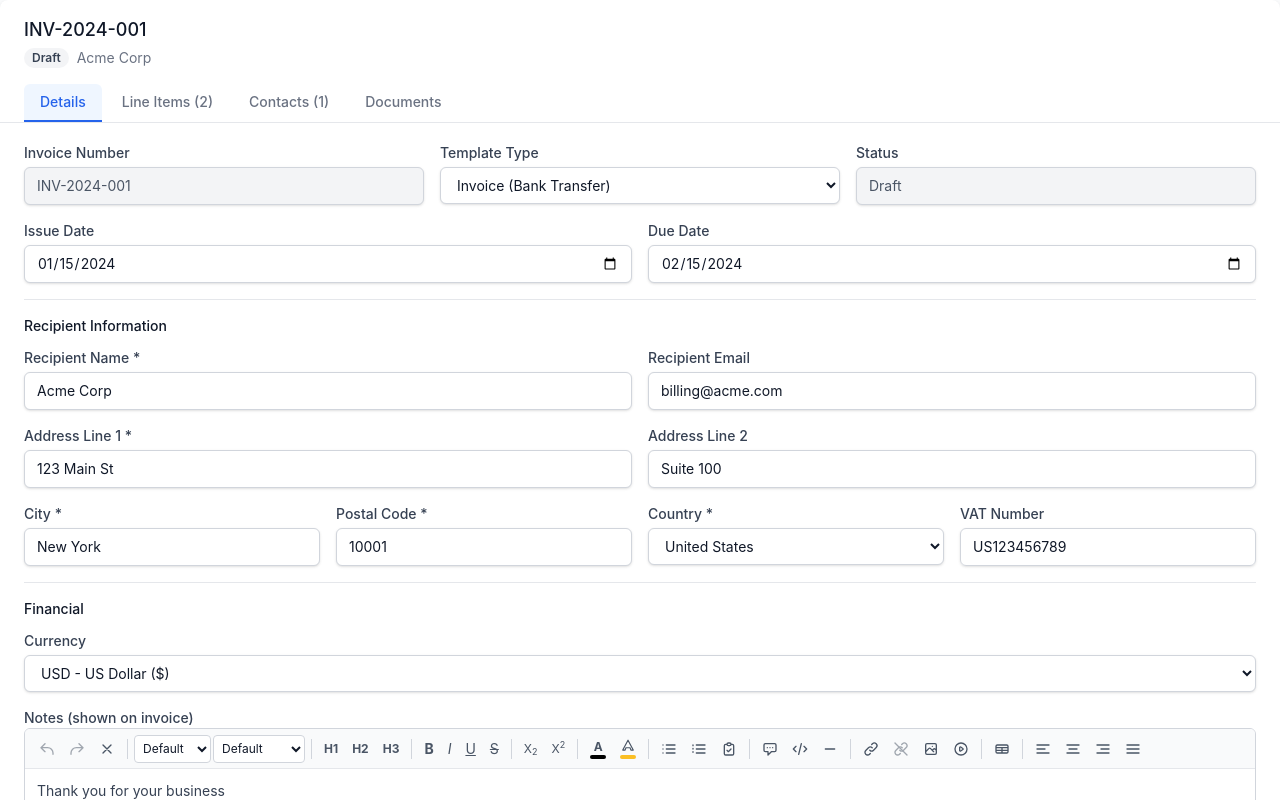
Test: InvoiceDetailPanel › line items functionality › removes line item when remove button is clicked
The width and height of the screenshot is (1280, 800).
Click the button "Line Items (2)".
click(167, 103)  # box [106,84,229,122]
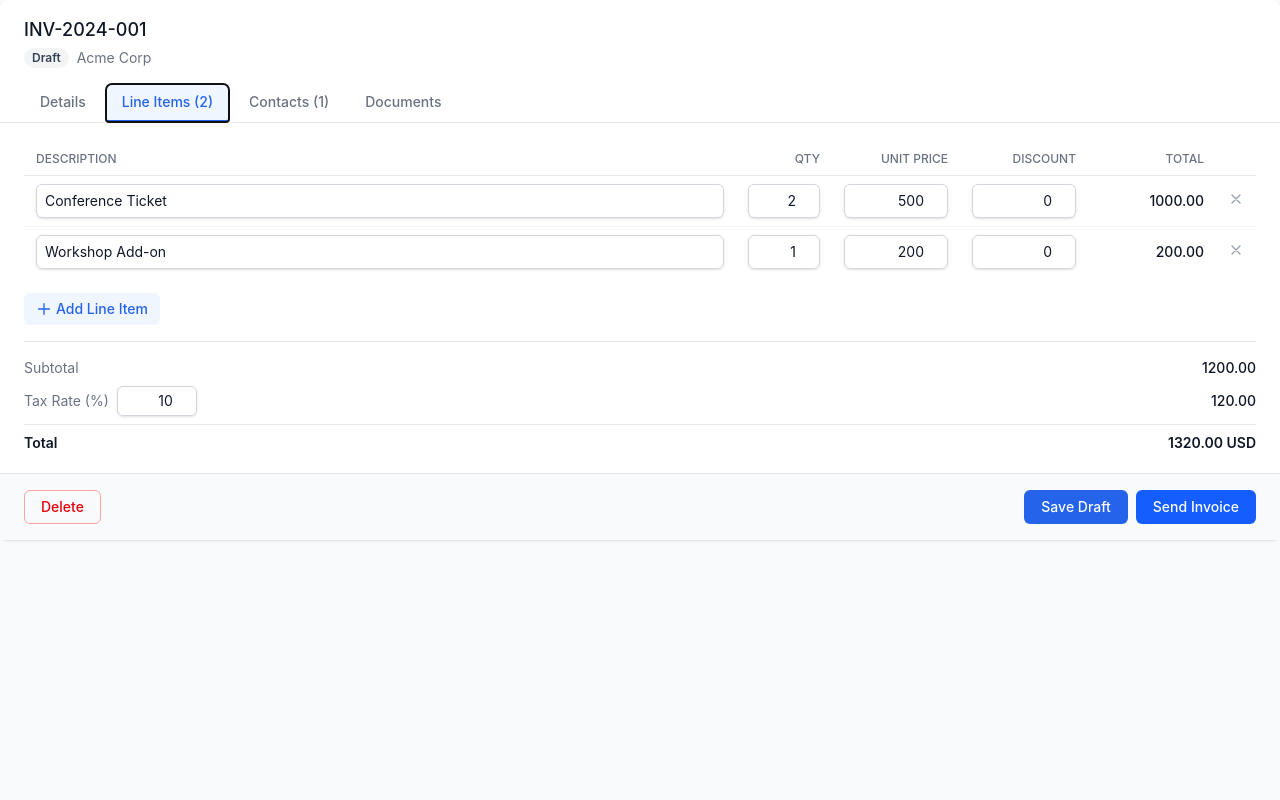
Result: the number of fields with placeholder "Item description" is 2 at [36,184,724,218]; [36,235,724,269]
// Click remove on first item
Click the button titled "Remove" next to "1000.00".
click(1236, 199)  # box [1228,191,1244,207]
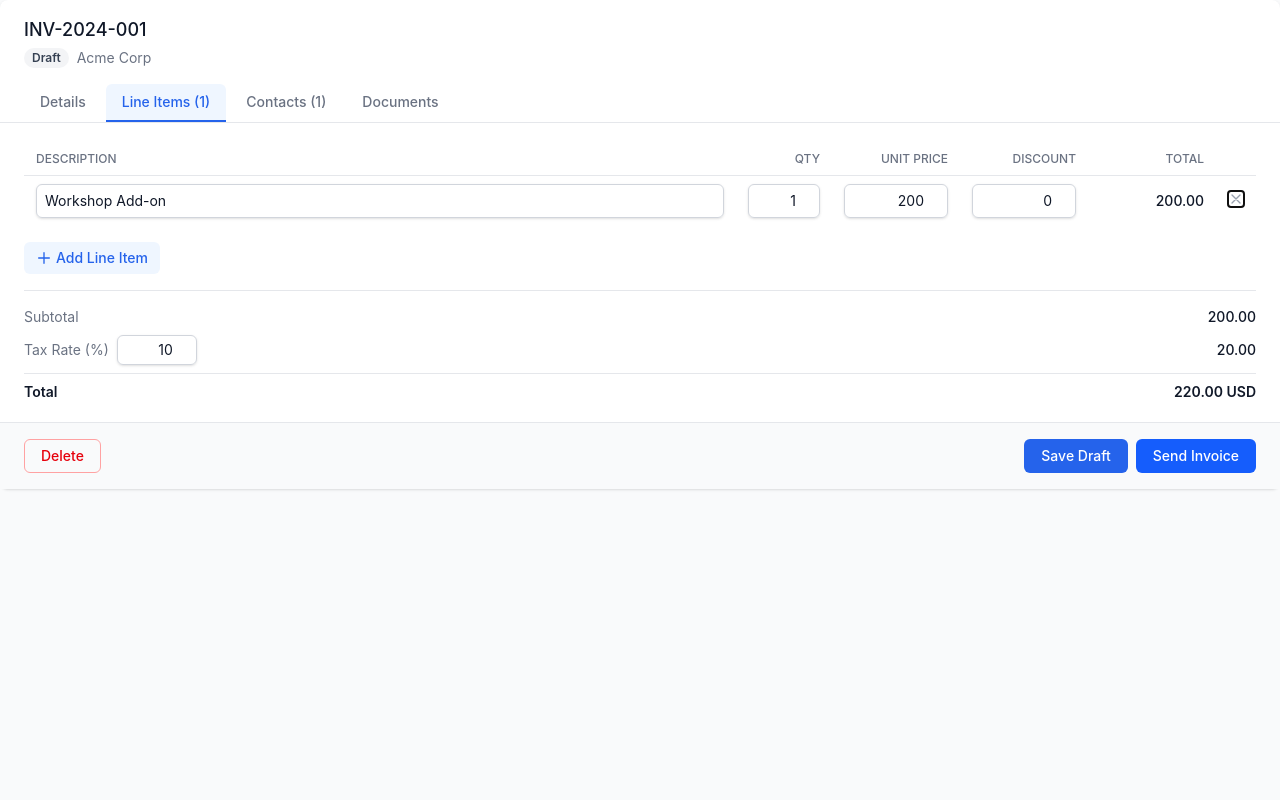
Result: the number of fields with placeholder "Item description" is 1 at [36,184,724,218]
